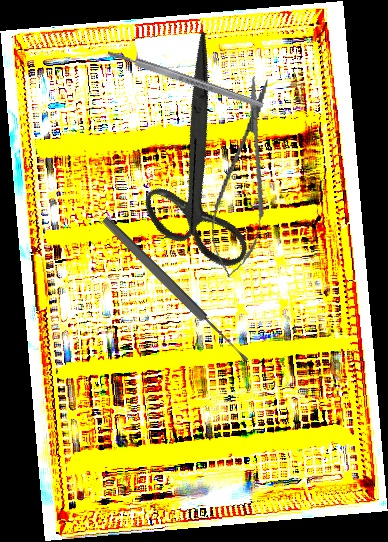Iris Scissors: (81, 31, 318, 291)
Micro Scissor: (202, 74, 287, 281)
Scalpel Handle: (106, 48, 265, 110)
Surgical Spoon: (100, 214, 251, 366)
